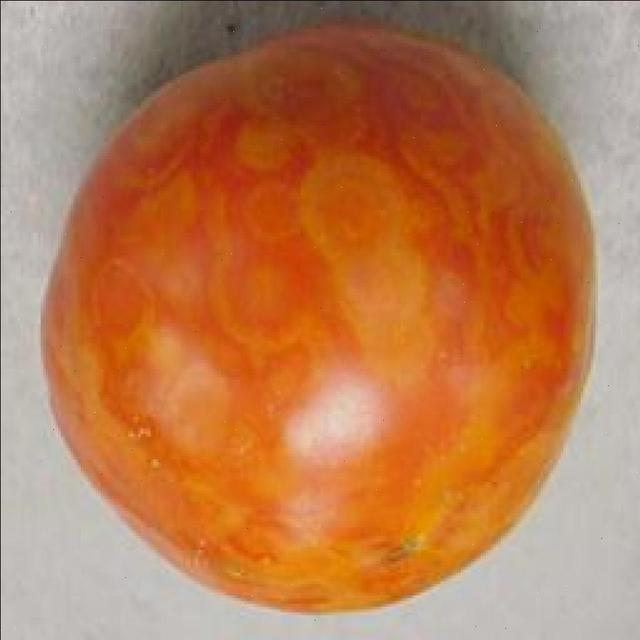Spotted wilt Virus Fruit: (27, 18, 398, 412)
